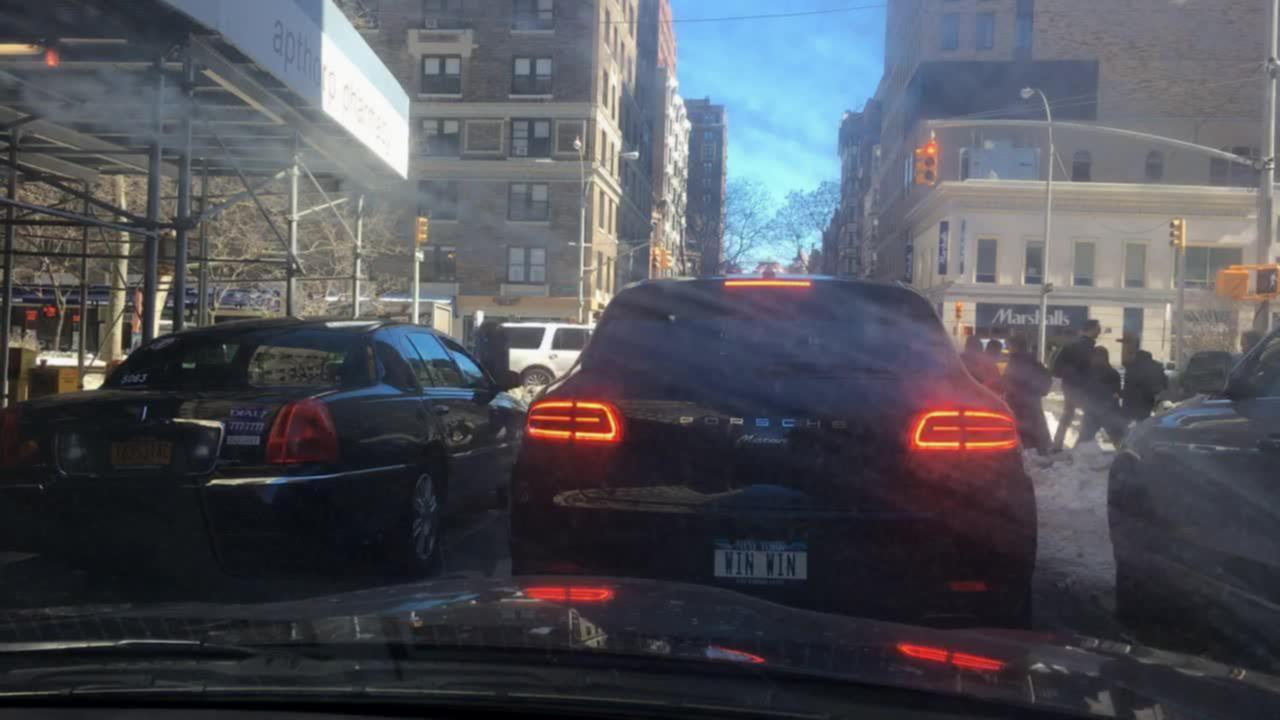porsche: (668, 404, 868, 446)
